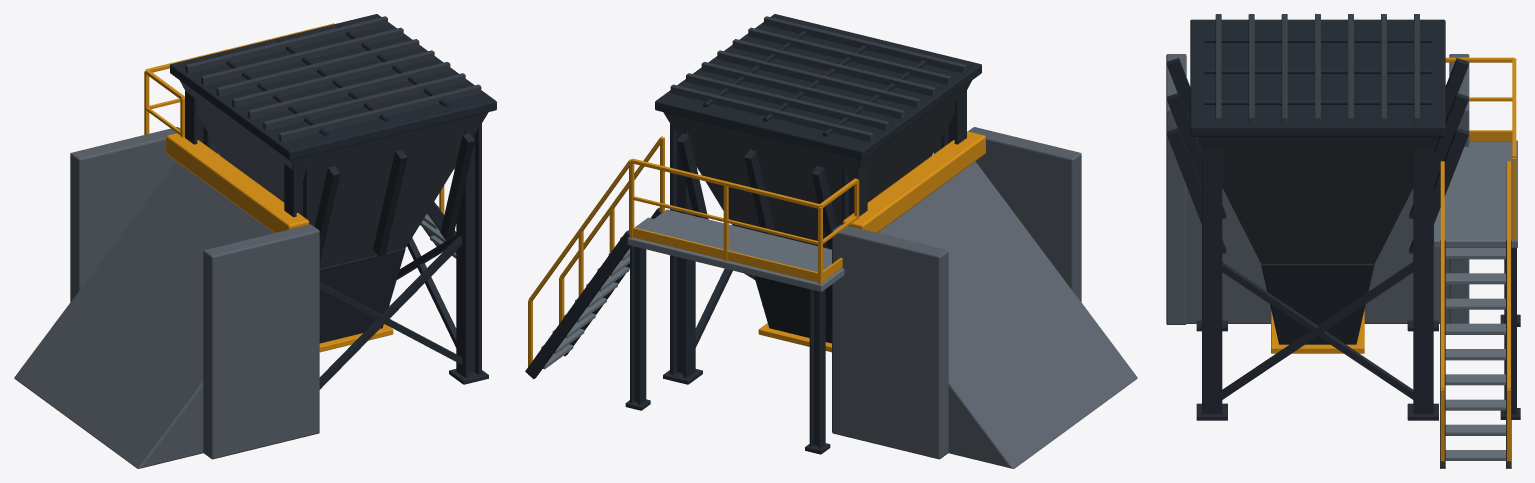
The model's file is feeder_bin_bn101.glb.
3 views of the same model, side by side, from view 1: azimuth 30°, elevation 25°; view 2: azimuth 150°, elevation 25°; view 3: azimuth 270°, elevation 25° (orthographic). The views are drawn at different scales.
Parts seen in each view (by area): view 1: BN101_LoadingRamp, BN101_WingWall_R, BN101_HopperBody, BN101_HopperRim, BN101_WingWall_L, BN101_DischargeThroat, BN101_WheelStop, BN101_Col_2_FlangeF, BN101_GrizzlyBar_0, BN101_GrizzlyBar_2, BN101_GrizzlyBar_4, BN101_GrizzlyBar_6 (+15 smaller); view 2: BN101_LoadingRamp, BN101_WingWall_L, BN101_HopperBody, BN101_HopperRim, BN101_WingWall_R, BN101_Walkway_Deck, BN101_WheelStop, BN101_DischargeThroat, BN101_Stairs_StringerR, BN101_GrizzlyBar_6, BN101_GrizzlyBar_2, BN101_GrizzlyBar_4 (+22 smaller); view 3: BN101_HopperRim, BN101_HopperBody, BN101_LoadingRamp, BN101_Walkway_Deck, BN101_DischargeThroat, BN101_Col_2_FlangeB, BN101_Col_4_FlangeB, BN101_WingWall_R, BN101_BraceE_DiagA, BN101_BraceE_DiagB, BN101_WingWall_L, BN101_RibYn_2 (+34 smaller).
Part boxes in pixels (x1=…): BN101_LoadingRamp: x1=14, y1=161, x2=273, y2=468; BN101_WingWall_R: x1=203, y1=224, x2=319, y2=459; BN101_HopperBody: x1=180, y1=81, x2=488, y2=268; BN101_HopperRim: x1=170, y1=14, x2=496, y2=160; BN101_WingWall_L: x1=70, y1=127, x2=180, y2=301; BN101_DischargeThroat: x1=319, y1=248, x2=405, y2=343; BN101_WheelStop: x1=166, y1=133, x2=309, y2=232; BN101_Col_2_FlangeF: x1=456, y1=128, x2=468, y2=377; BN101_GrizzlyBar_0: x1=278, y1=84, x2=481, y2=141; BN101_GrizzlyBar_2: x1=247, y1=62, x2=450, y2=119; BN101_GrizzlyBar_4: x1=216, y1=39, x2=419, y2=96; BN101_GrizzlyBar_6: x1=185, y1=16, x2=387, y2=73; BN101_LoadingRamp: x1=878, y1=161, x2=1137, y2=468; BN101_WingWall_L: x1=832, y1=224, x2=948, y2=459; BN101_HopperBody: x1=663, y1=80, x2=971, y2=248; BN101_HopperRim: x1=655, y1=14, x2=981, y2=160; BN101_WingWall_R: x1=968, y1=127, x2=1081, y2=301; BN101_Walkway_Deck: x1=627, y1=209, x2=844, y2=291; BN101_WheelStop: x1=842, y1=131, x2=985, y2=232; BN101_DischargeThroat: x1=754, y1=276, x2=831, y2=343; BN101_Stairs_StringerR: x1=525, y1=230, x2=629, y2=379; BN101_GrizzlyBar_6: x1=670, y1=84, x2=873, y2=141; BN101_GrizzlyBar_2: x1=732, y1=39, x2=935, y2=96; BN101_GrizzlyBar_4: x1=701, y1=62, x2=904, y2=119; BN101_HopperRim: x1=1190, y1=19, x2=1445, y2=136; BN101_HopperBody: x1=1196, y1=136, x2=1438, y2=263; BN101_LoadingRamp: x1=1186, y1=186, x2=1449, y2=323; BN101_Walkway_Deck: x1=1433, y1=140, x2=1517, y2=247; BN101_DischargeThroat: x1=1261, y1=263, x2=1374, y2=344; BN101_Col_2_FlangeB: x1=1202, y1=147, x2=1222, y2=414; BN101_Col_4_FlangeB: x1=1413, y1=147, x2=1433, y2=414; BN101_WingWall_R: x1=1166, y1=54, x2=1186, y2=324; BN101_BraceE_DiagA: x1=1222, y1=262, x2=1413, y2=399; BN101_BraceE_DiagB: x1=1222, y1=262, x2=1413, y2=399; BN101_WingWall_L: x1=1449, y1=54, x2=1469, y2=323; BN101_RibYn_2: x1=1167, y1=128, x2=1226, y2=253.
Bounding box in the file's own units: 6.15 × 3.65 × 3.86.
